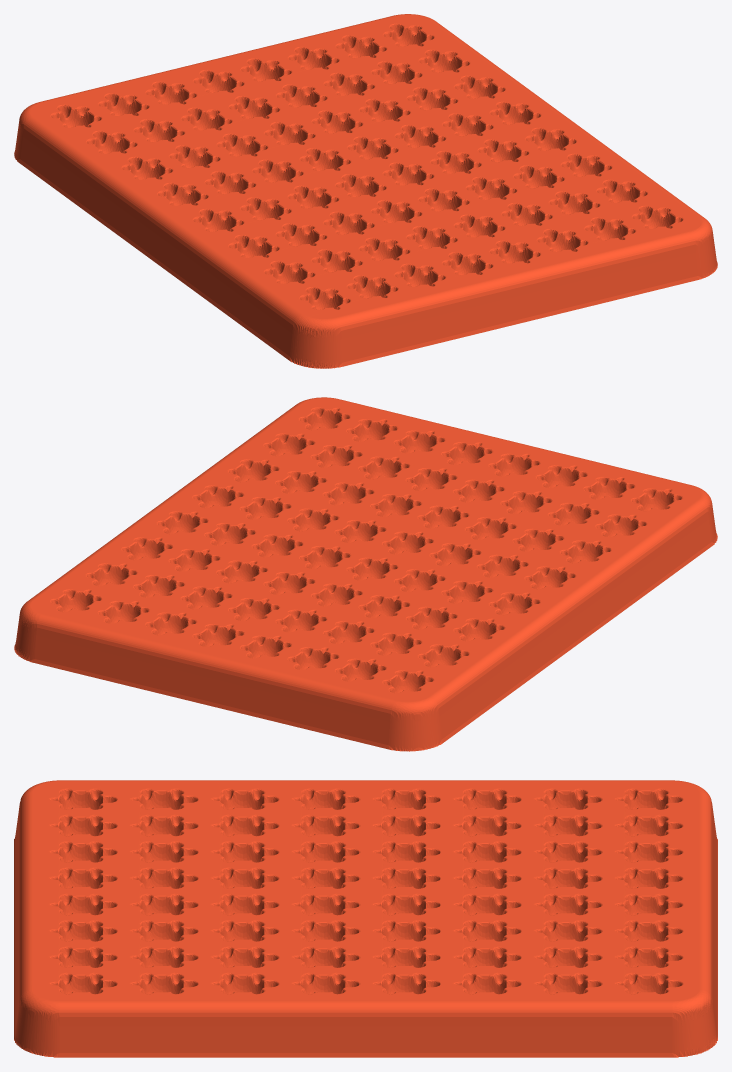
The model's file is mold.glb.
3 renders of one model, top to bottom at view 1: azimuth 30°, elevation 25°; view 2: azimuth 150°, elevation 25°; view 3: azimuth 270°, elevation 25°, orthographic. The views are drawn at different scales.
Visible parts, largest first — view 1: geometry_0; view 2: geometry_0; view 3: geometry_0.
Part boxes in pixels (x1=…): geometry_0: x1=14, y1=14, x2=717, y2=368; geometry_0: x1=14, y1=397, x2=717, y2=751; geometry_0: x1=14, y1=780, x2=717, y2=1057.
Bounding box in the file's own units: 0.1085 × 0.0105 × 0.1373.
